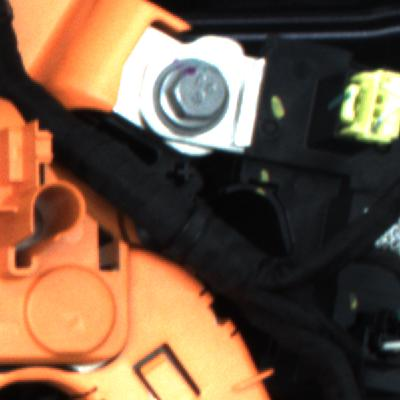nut_b: (159, 60, 240, 138)
